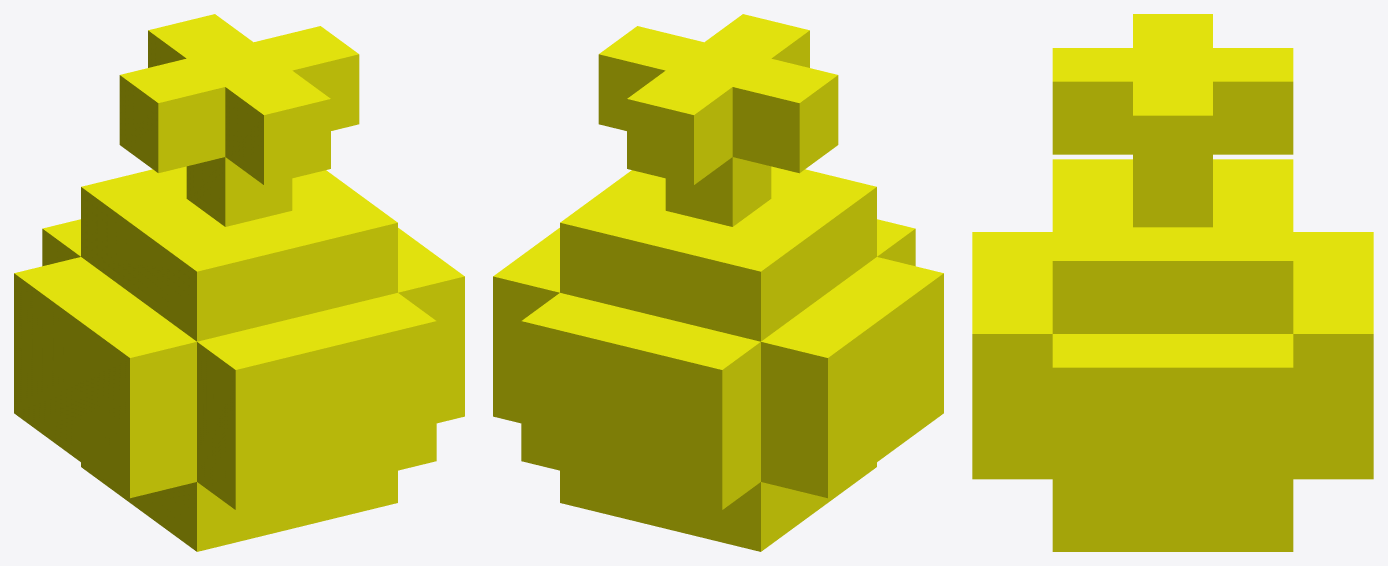
The model's file is voxel-village-coin-purse.glb.
The picture shows the model from 3 angles, left to right: view 1: azimuth 30°, elevation 25°; view 2: azimuth 150°, elevation 25°; view 3: azimuth 270°, elevation 25°; orthographic projection. The views are drawn at different scales.
Parts seen in each view (by area): view 1: VS_Villagers_CoinPurse; view 2: VS_Villagers_CoinPurse; view 3: VS_Villagers_CoinPurse.
Part boxes in pixels (x1=…): VS_Villagers_CoinPurse: x1=14, y1=14, x2=464, y2=551; VS_Villagers_CoinPurse: x1=493, y1=14, x2=943, y2=551; VS_Villagers_CoinPurse: x1=972, y1=14, x2=1373, y2=551.
Bounding box in the file's own units: 0.5 × 0.6 × 0.5.
